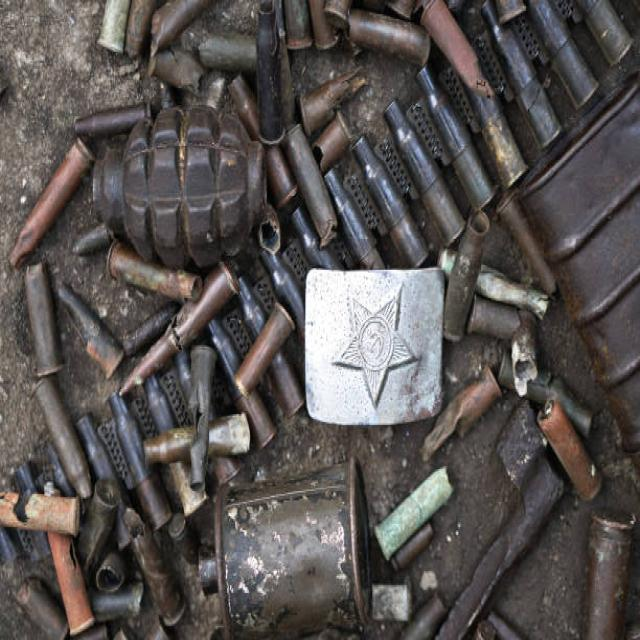grenade: (90, 101, 284, 272)
